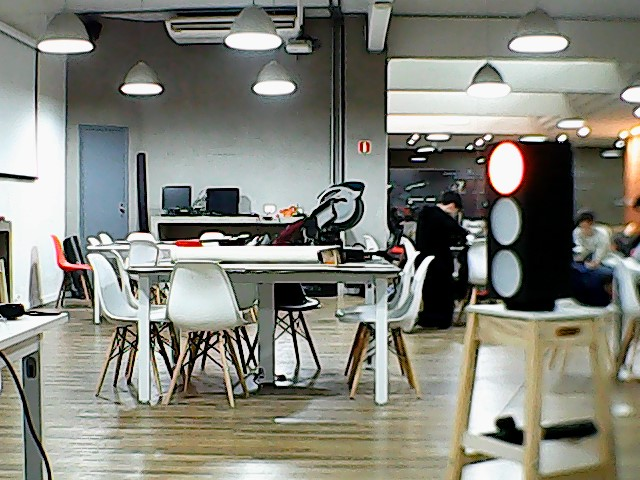vermelho: (477, 136, 580, 303)
